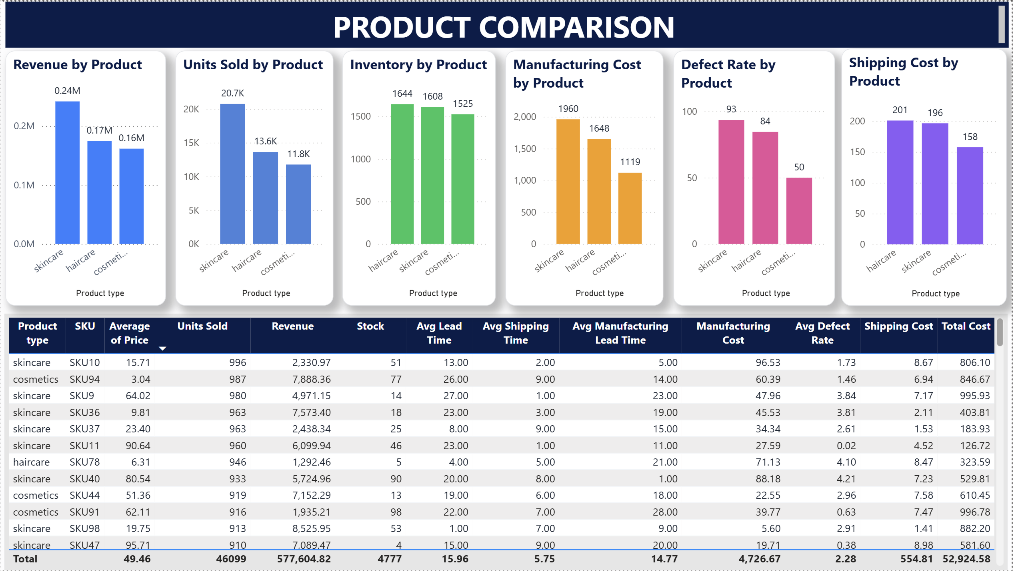

The dashboard page shown, as its layout file describes it:
{"tool":"powerbi","page":{"name":"Product Comparison","canvas":[1280,720],"ordinal":1},"visuals":[{"type":"tableEx","fields":{"Values":["Supply_chain_Data.Product type","Supply_chain_Data.SKU","Avg(Supply_chain_Data.Price)","Sum(Supply_chain_Data.Number of products sold)","Sum(Supply_chain_Data.Revenue generated)","Sum(Supply_chain_Data.Stock levels)","Avg(Supply_chain_Data.Lead times)","Avg(Supply_chain_Data.Shipping times)","Avg(Supply_chain_Data.Manufacturing lead time)","Sum(Supply_chain_Data.Manufacturing costs)","Avg(Supply_chain_Data.Defect rates)","Sum(Supply_chain_Data.Shipping costs)"]},"box":[4.5,395.5,1269.7,324.2],"z":0},{"type":"textbox","box":[5.7,0,1270,58.6],"z":1000},{"type":"clusteredColumnChart","title":"Revenue by Product","fields":{"Category":["Supply_chain_Data.Product type"],"Y":["Sum(Supply_chain_Data.Revenue generated)"]},"box":[6.1,62.1,203,322.7],"z":2000},{"type":"clusteredColumnChart","title":"Units Sold by Product","fields":{"Category":["Supply_chain_Data.Product type"],"Y":["Sum(Supply_chain_Data.Number of products sold)"]},"box":[221.2,62.1,200,322.7],"z":3000},{"type":"clusteredColumnChart","title":"Inventory by Product","fields":{"Category":["Supply_chain_Data.Product type"],"Y":["Sum(Supply_chain_Data.Stock levels)"]},"box":[433.3,62.1,193.9,322.7],"z":4000},{"type":"clusteredColumnChart","title":"Manufacturing Cost by Product","fields":{"Category":["Supply_chain_Data.Product type"],"Y":["Sum(Supply_chain_Data.Manufacturing costs)"]},"box":[639.4,62.1,200,322.7],"z":5000},{"type":"clusteredColumnChart","title":"Defect Rate by Product","fields":{"Category":["Supply_chain_Data.Product type"],"Y":["Sum(Supply_chain_Data.Defect rates)"]},"box":[851.5,62.1,204.5,322.7],"z":6000},{"type":"clusteredColumnChart","title":"Shipping Cost by Product","fields":{"Category":["Supply_chain_Data.Product type"],"Y":["Sum(Supply_chain_Data.Shipping costs)"]},"box":[1065.2,59.1,209.1,325.8],"z":7000}]}

Visuals, with their boxes in screenshot pixels (x1, y1, x2, y2), scaled from the page's 1280x720 canvas onto the 1013x571 screenshot:
tableEx - Supply_chain_Data.Product type x Supply_chain_Data.SKU: 4/314/1008/570
textbox: 5/0/1010/46
"Revenue by Product" clusteredColumnChart: 5/49/165/305
"Units Sold by Product" clusteredColumnChart: 175/49/333/305
"Inventory by Product" clusteredColumnChart: 343/49/496/305
"Manufacturing Cost by Product" clusteredColumnChart: 506/49/664/305
"Defect Rate by Product" clusteredColumnChart: 674/49/836/305
"Shipping Cost by Product" clusteredColumnChart: 843/47/1008/305
